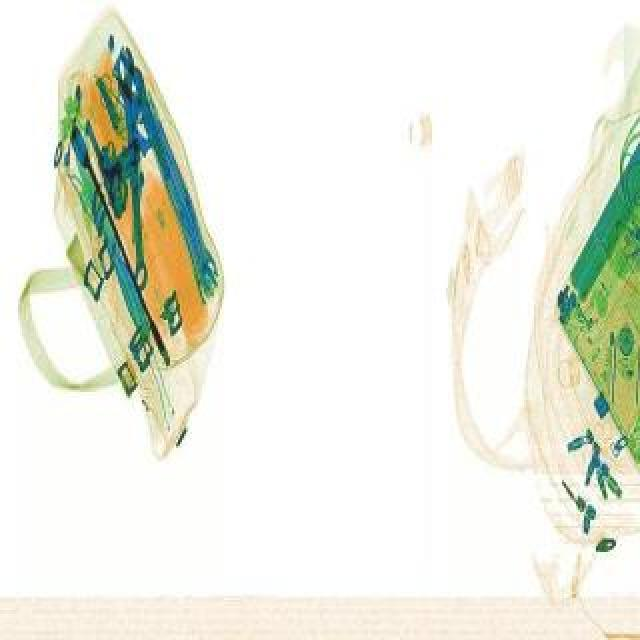gun: (84, 106, 162, 218)
scissors: (64, 124, 176, 364), (114, 42, 150, 288)
